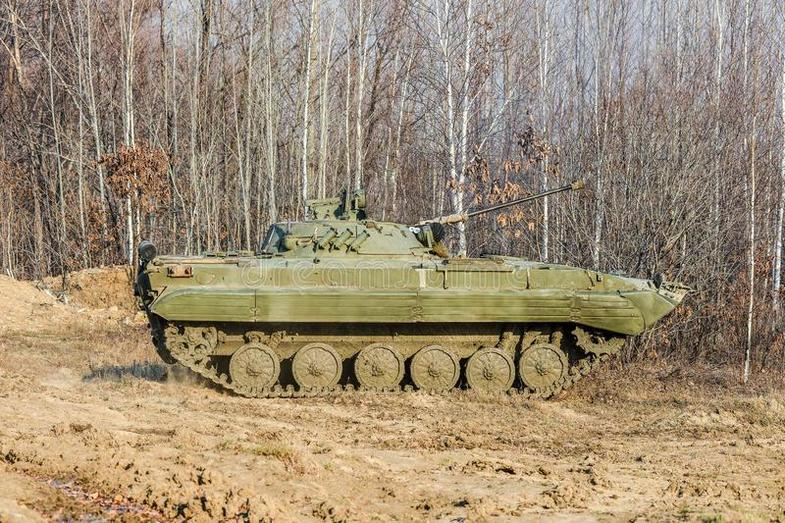bmp: (142, 209, 687, 392)
